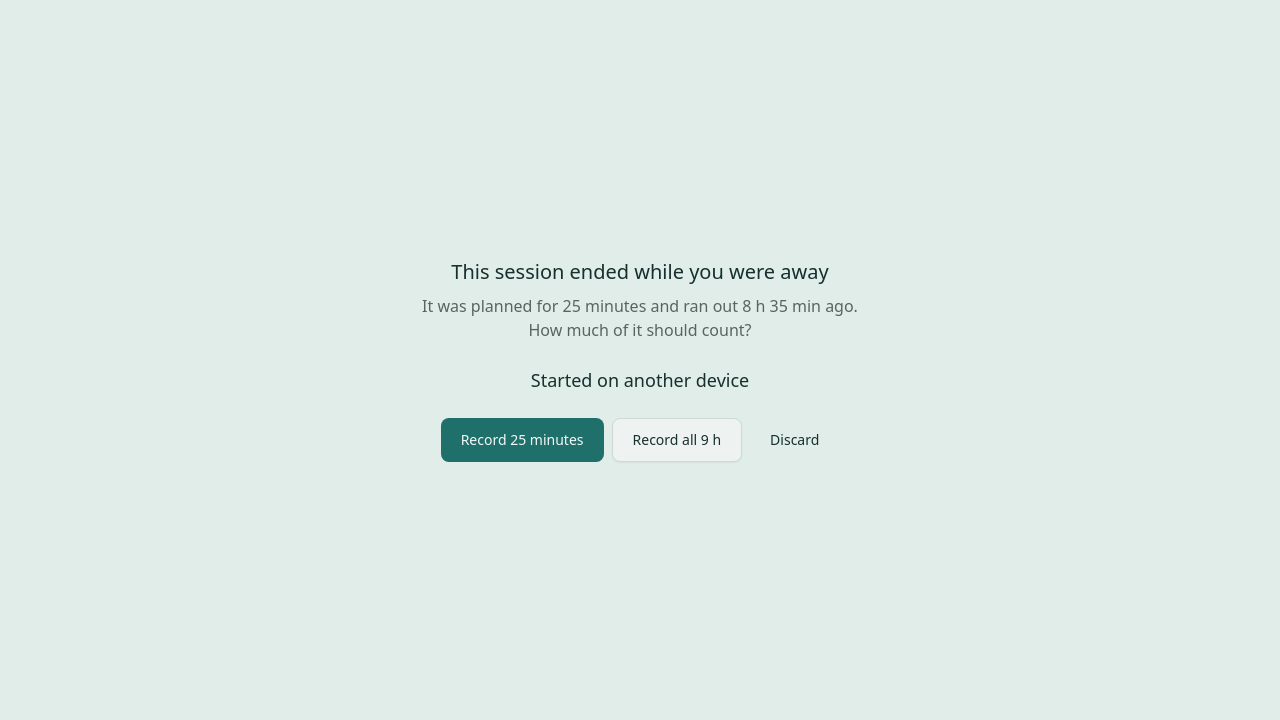
Test: TimerStage › does not rewrite a session another device settled while this one showed it as overdue
The image size is (1280, 720).
First load: overdue. By the time the user clicks, it has been settled.
Click the button "Record 25 minutes" at (522, 440), box x1=441 y1=418 x2=604 y2=462
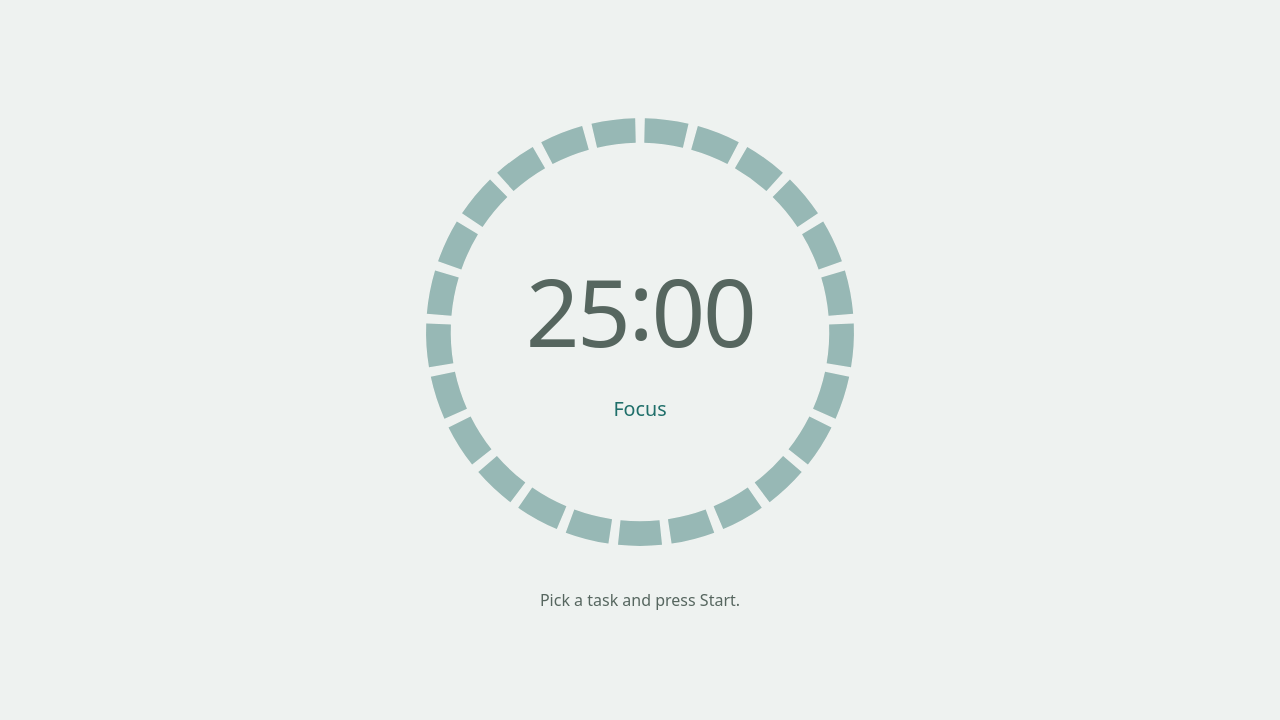
Now the text "Pick a task and press Start." is shown, box x1=540 y1=588 x2=740 y2=612
